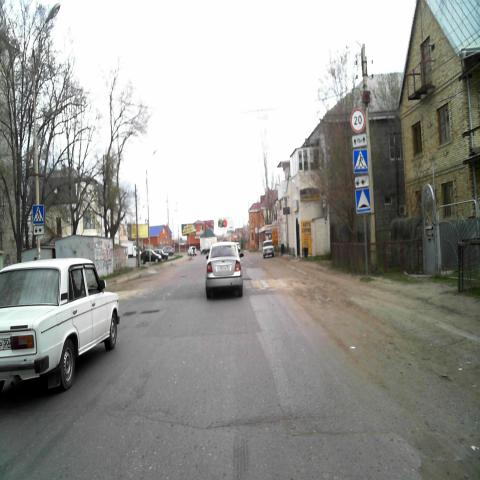8_15: (355, 176, 369, 188)
